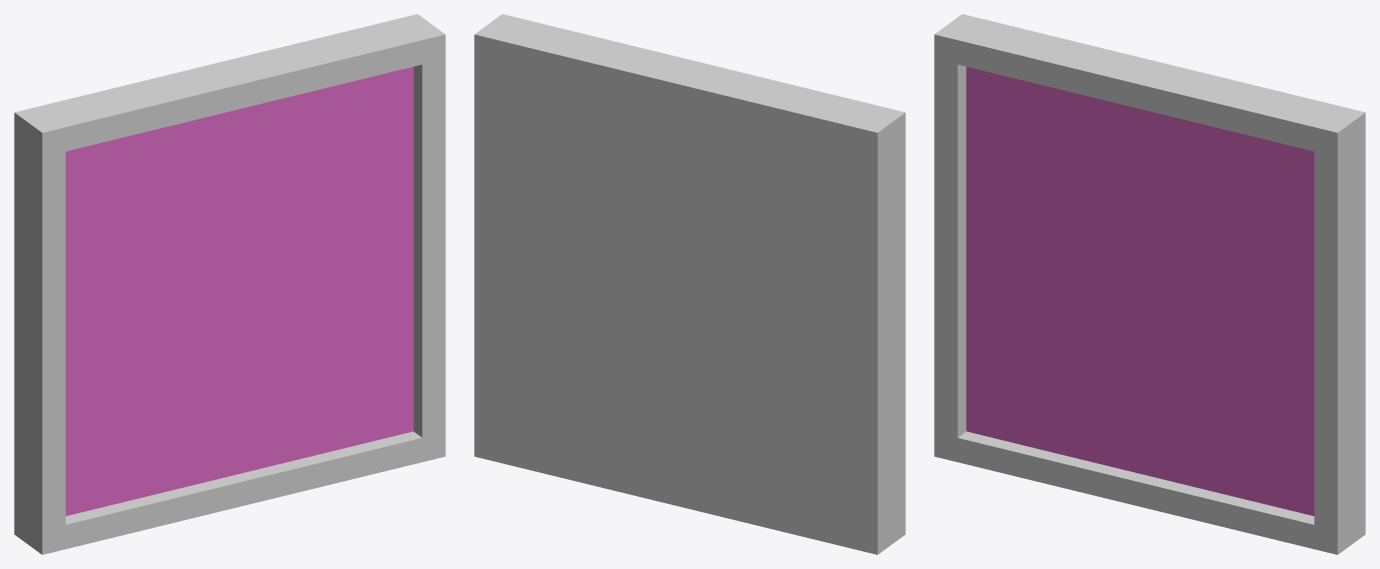
Rendered from ObjectPodiumInfo.fbx.
The picture shows the model from 3 angles, left to right: view 1: azimuth 30°, elevation 25°; view 2: azimuth 150°, elevation 25°; view 3: azimuth 330°, elevation 25°; orthographic projection.
Parts seen in each view (by area): view 1: Cube.010; view 2: Cube.010; view 3: Cube.010.
Part boxes in pixels (left/top/right/bottom): Cube.010: left=14, top=14, right=445, bottom=554; Cube.010: left=474, top=14, right=905, bottom=554; Cube.010: left=934, top=14, right=1365, bottom=554.
Bounding box in the file's own units: 200 × 200 × 24.02.
